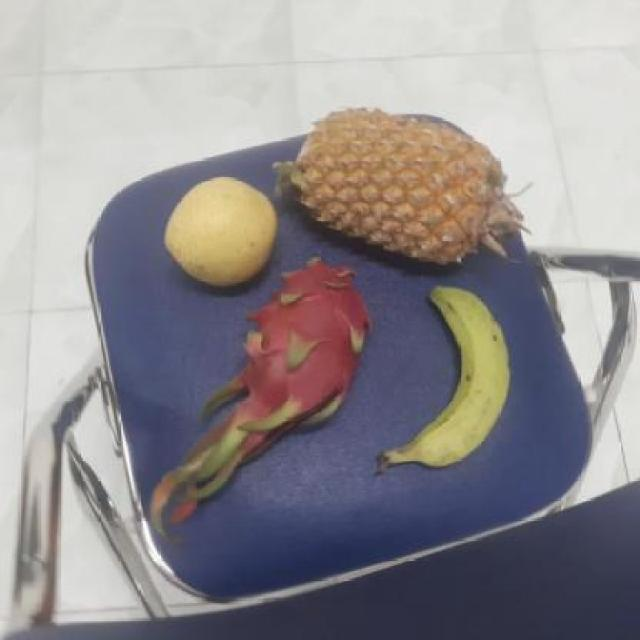banana: (386, 276, 517, 470)
dragon fruit: (230, 257, 370, 423)
pear: (159, 176, 279, 290)
pineapple: (287, 107, 521, 270)
